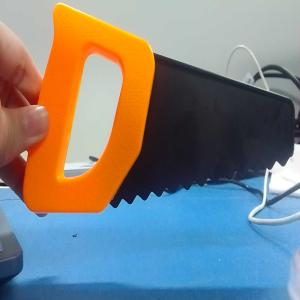serrote: (39, 3, 296, 215)
